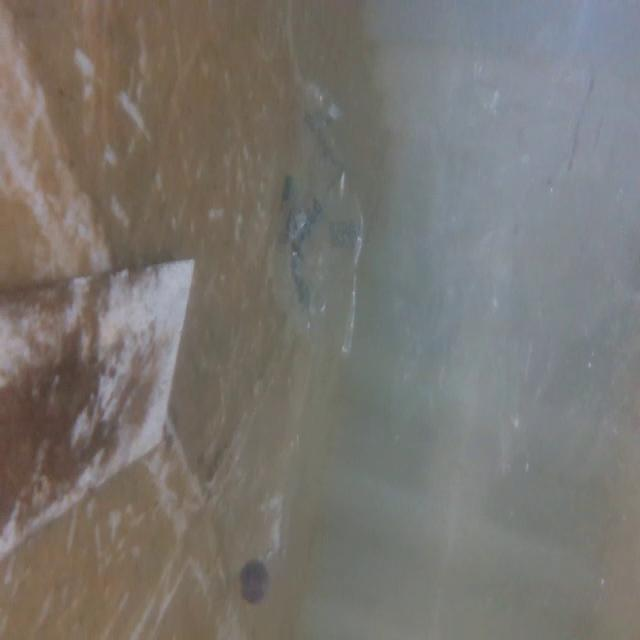metal: (0, 253, 201, 563)
plastic bags: (437, 35, 622, 457), (271, 76, 361, 354)
plastic bottle: (217, 437, 318, 610)
